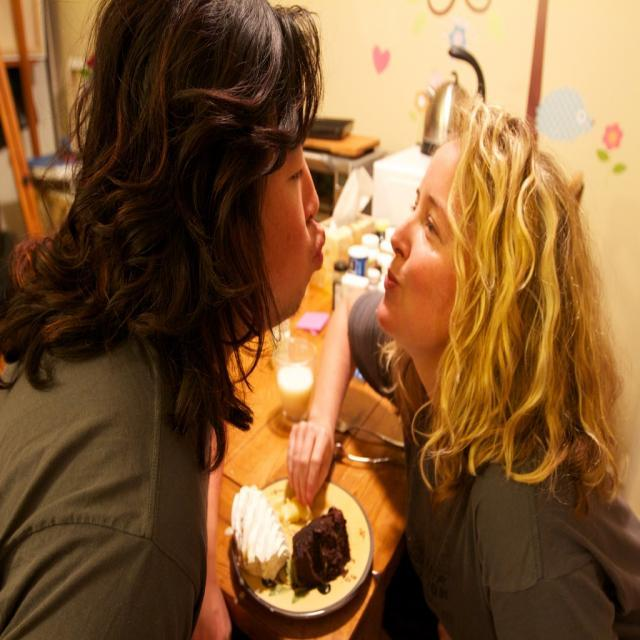Ice cream: (227, 484, 293, 591)
